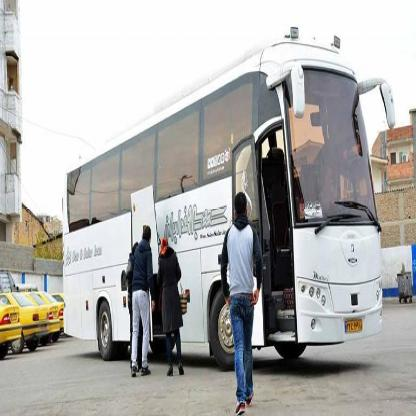Bus: (63, 21, 394, 372)
Car: (17, 285, 49, 347), (0, 301, 19, 355), (38, 294, 61, 338)
